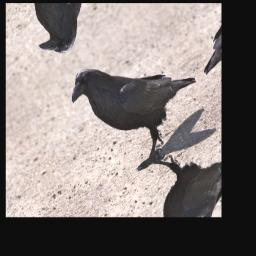Crow: (60, 15, 218, 183)
